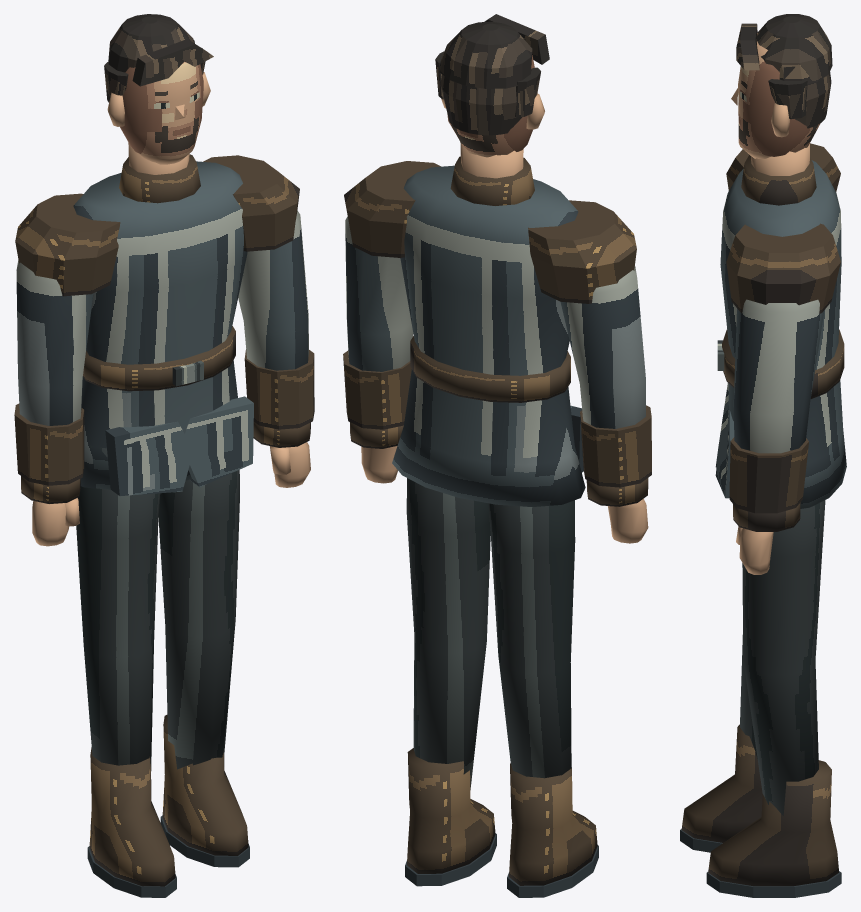
File: armor-graphic.glb
3 renders of one model, left to right at view 1: azimuth 30°, elevation 25°; view 2: azimuth 150°, elevation 25°; view 3: azimuth 270°, elevation 25°, orthographic. The views are drawn at different scales.
Visible parts, largest first — view 1: armor-graphic runtime mesh; view 2: armor-graphic runtime mesh; view 3: armor-graphic runtime mesh.
Part boxes in pixels (x1,y1,x2,y2): armor-graphic runtime mesh: (14, 14, 314, 897); armor-graphic runtime mesh: (343, 14, 651, 897); armor-graphic runtime mesh: (680, 14, 846, 897).
Bounding box in the file's own units: 0.6623 × 1.82 × 0.3273.
Materials: 1 (1 with a texture image).
